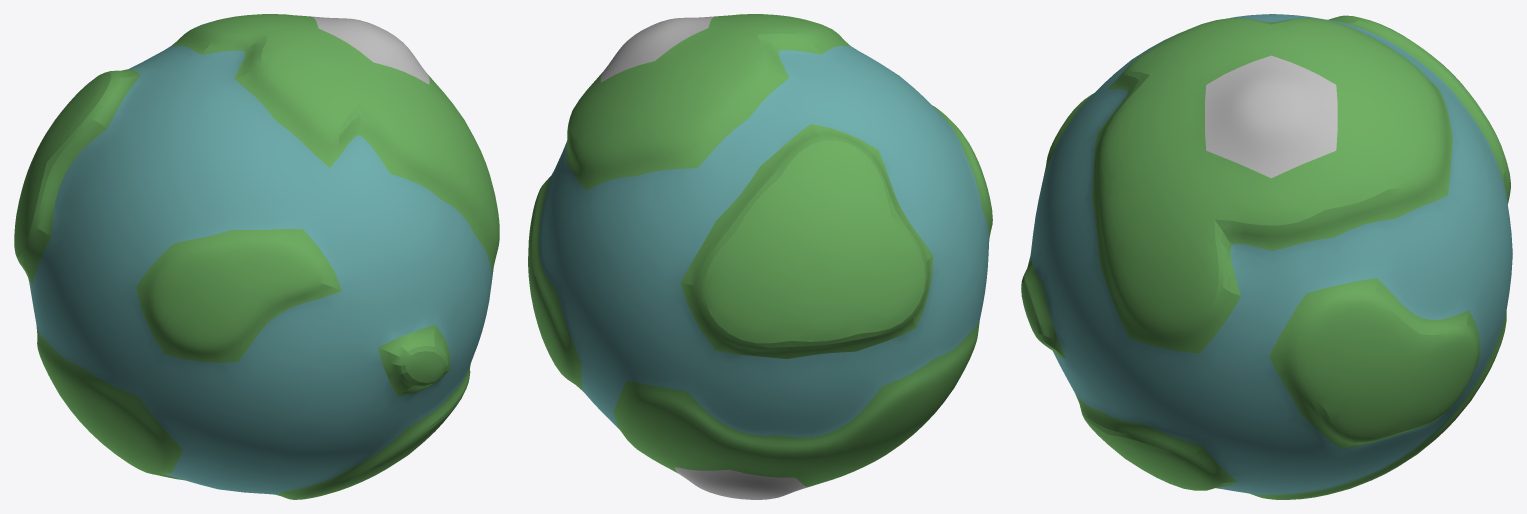
The model's file is Planet-B7xd3SZq0z.glb.
3 views of the same model, side by side, from view 1: azimuth 30°, elevation 25°; view 2: azimuth 150°, elevation 25°; view 3: azimuth 270°, elevation 25° (orthographic). The views are drawn at different scales.
Parts seen in each view (by area): view 1: Planet_1; view 2: Planet_1; view 3: Planet_1.
Boxes of the visible parts, x1,y1,x2,y2 form: Planet_1: (14, 14, 499, 499); Planet_1: (528, 14, 992, 499); Planet_1: (1021, 14, 1512, 499).
Size of the model in its own units: 3.79 by 3.93 by 3.82.
1 material, 1 textured.
